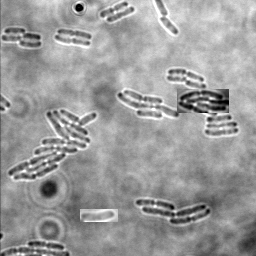Dividing: (54, 34, 90, 47), (56, 28, 92, 39), (27, 239, 64, 249)
Microcolony: (84, 170, 244, 242), (115, 7, 210, 85), (7, 109, 98, 180), (117, 88, 180, 119), (195, 101, 238, 136), (1, 27, 42, 48)
